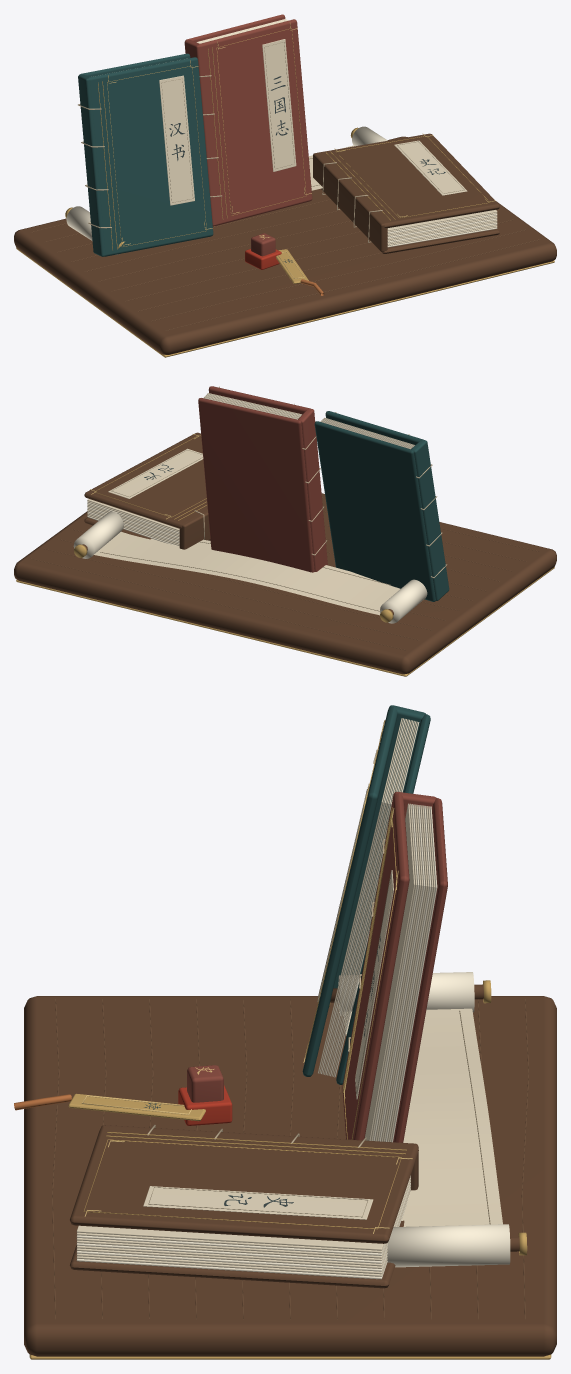
Rendered from archive-books.glb.
3 views of the same model, one above another, from view 1: azimuth 30°, elevation 25°; view 2: azimuth 150°, elevation 25°; view 3: azimuth 270°, elevation 25° (orthographic). The views are drawn at different scales.
Visible parts, largest first — view 1: Walnut display tray, Standing green history front board, Standing red history front board, Resting golden history front board, Standing green history title slip, Standing red history title slip, Resting golden history cloth spine, Standing green history cloth spine, Resting golden history title slip, Lower bronze rim, Standing red history cloth spine, Resting golden history lower board (+9 smaller); view 2: Walnut display tray, Standing red history lower board, Standing green history lower board, Unrolled curved paper, Resting golden history front board, Standing green history cloth spine, Standing red history cloth spine, Resting golden history title slip, Lower bronze rim, Rolled parchment.001, Rolled parchment, Standing green history front board (+4 smaller); view 3: Walnut display tray, Resting golden history front board, Unrolled curved paper, Standing red history front board, Rolled parchment.001, Resting golden history title slip, Standing green history front board, Standing red history lower board, Standing green history cloth spine, Resting golden history lower board, Resting golden history leaf 11, Standing red history leaf 11 (+32 smaller).
Part boxes in pixels (x1=…): Walnut display tray: x1=14, y1=136, x2=556, y2=354; Standing green history front board: x1=88, y1=57, x2=213, y2=256; Standing red history front board: x1=198, y1=19, x2=312, y2=225; Resting golden history front board: x1=317, y1=133, x2=499, y2=228; Standing green history title slip: x1=159, y1=75, x2=194, y2=205; Standing red history title slip: x1=262, y1=39, x2=296, y2=171; Resting golden history cloth spine: x1=313, y1=153, x2=387, y2=252; Standing green history cloth spine: x1=78, y1=74, x2=105, y2=256; Resting golden history title slip: x1=394, y1=140, x2=467, y2=195; Lower bronze rim: x1=16, y1=247, x2=554, y2=357; Standing red history cloth spine: x1=184, y1=40, x2=216, y2=226; Resting golden history lower board: x1=381, y1=229, x2=499, y2=253; Walnut display tray: x1=14, y1=493, x2=556, y2=674; Standing red history lower board: x1=198, y1=398, x2=314, y2=572; Standing green history lower board: x1=314, y1=421, x2=435, y2=601; Unrolled curved paper: x1=94, y1=531, x2=400, y2=615; Resting golden history front board: x1=84, y1=432, x2=207, y2=528; Standing green history cloth spine: x1=411, y1=440, x2=449, y2=600; Standing red history cloth spine: x1=298, y1=409, x2=327, y2=571; Resting golden history title slip: x1=108, y1=448, x2=203, y2=498; Lower bronze rim: x1=16, y1=567, x2=554, y2=676; Rolled parchment.001: x1=73, y1=511, x2=123, y2=558; Rolled parchment: x1=380, y1=579, x2=427, y2=623; Standing green history front board: x1=325, y1=411, x2=423, y2=444; Walnut display tray: x1=24, y1=996, x2=556, y2=1356; Resting golden history front board: x1=70, y1=1127, x2=418, y2=1243; Unrolled curved paper: x1=343, y1=1008, x2=502, y2=1226; Standing red history front board: x1=342, y1=793, x2=409, y2=1140; Rolled parchment.001: x1=387, y1=1224, x2=510, y2=1267; Resting golden history title slip: x1=143, y1=1186, x2=373, y2=1219; Standing green history front board: x1=302, y1=706, x2=397, y2=1076; Standing red history lower board: x1=393, y1=798, x2=447, y2=1142; Standing green history cloth spine: x1=333, y1=705, x2=425, y2=988; Resting golden history lower board: x1=70, y1=1220, x2=404, y2=1288; Resting golden history leaf 11: x1=76, y1=1225, x2=383, y2=1250; Standing red history leaf 11: x1=365, y1=803, x2=415, y2=1140.
Bounding box in the file's own units: 5.55 × 2.71 × 3.77.
